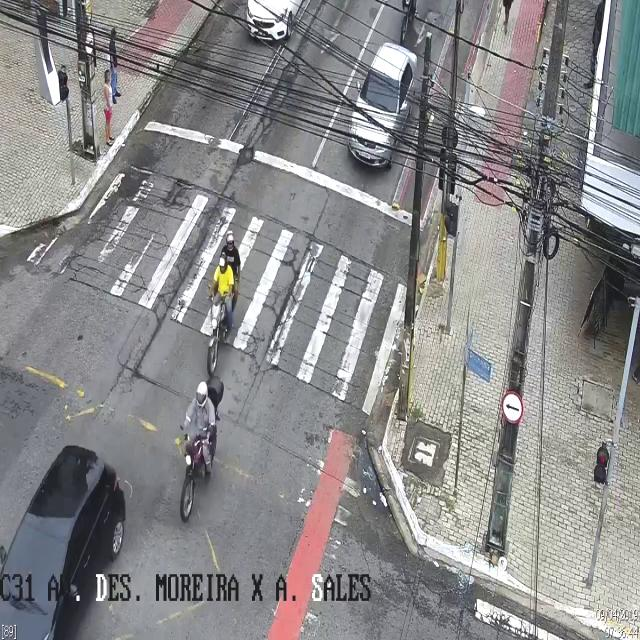Car: (4, 447, 124, 639), (346, 41, 414, 171), (228, 0, 316, 46)
Motorcycle: (178, 382, 216, 524), (206, 231, 242, 374), (399, 0, 436, 36)
